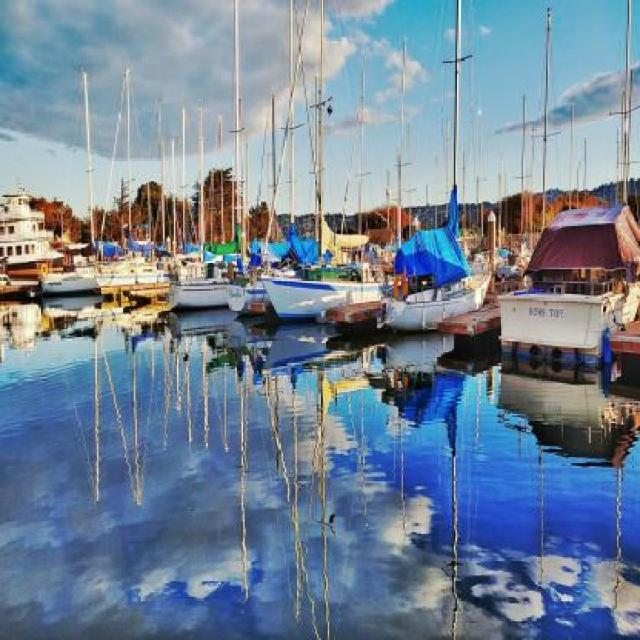ship: (257, 79, 395, 315), (376, 79, 493, 331), (224, 56, 313, 312), (495, 201, 639, 359), (93, 124, 170, 297), (39, 139, 124, 294), (166, 254, 242, 312)
